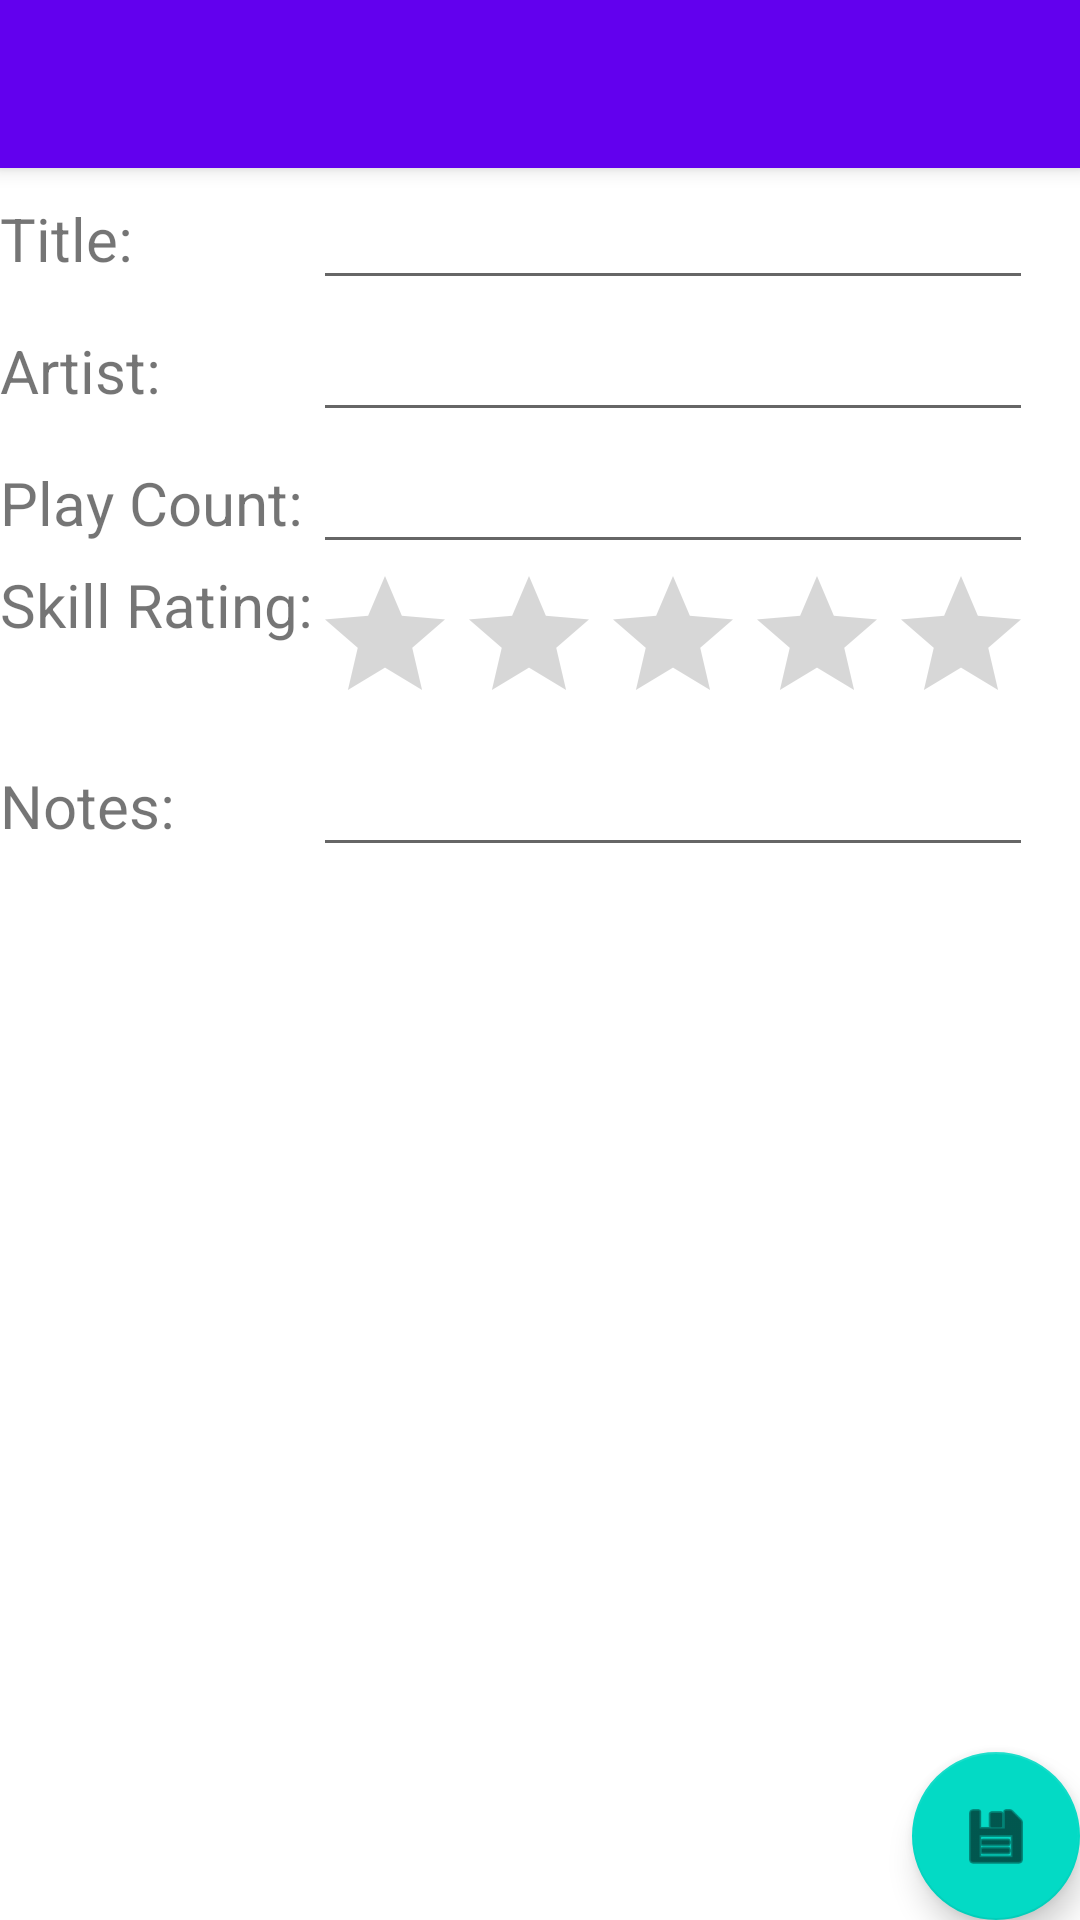

Where icons sit on this 1080px x 1920px app screen, as (x1, y1, x2, y2):
Save Button: (912, 1752, 1080, 1920)
